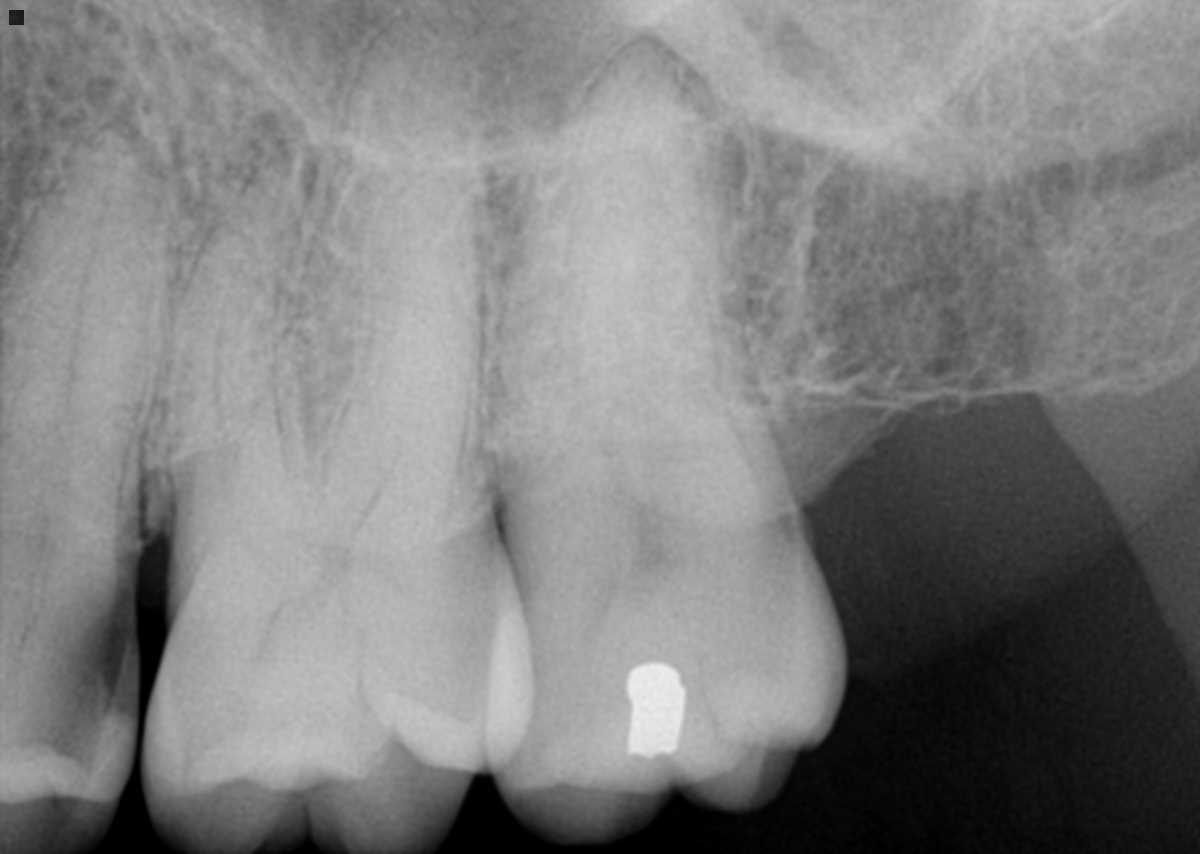Apical Lesion: (201, 110, 325, 226), (62, 100, 189, 208)
Distal Canal: (359, 438, 402, 518)
Distal Root: (320, 169, 483, 492)
Main Canal: (61, 147, 125, 404)
Main Root: (0, 130, 175, 553)
Mesial Canal: (211, 255, 248, 501)
Mesial Root: (163, 163, 303, 513)
Palatal Root: (203, 14, 487, 535), (538, 37, 794, 513)
decay: (23, 577, 140, 762)
